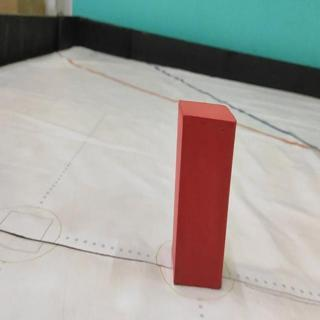redbox: (173, 99, 236, 291)
